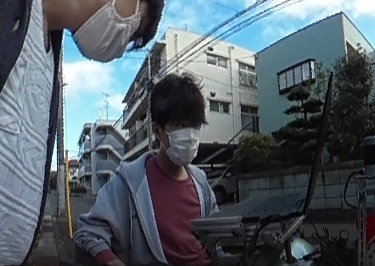person: (72, 71, 230, 265)
